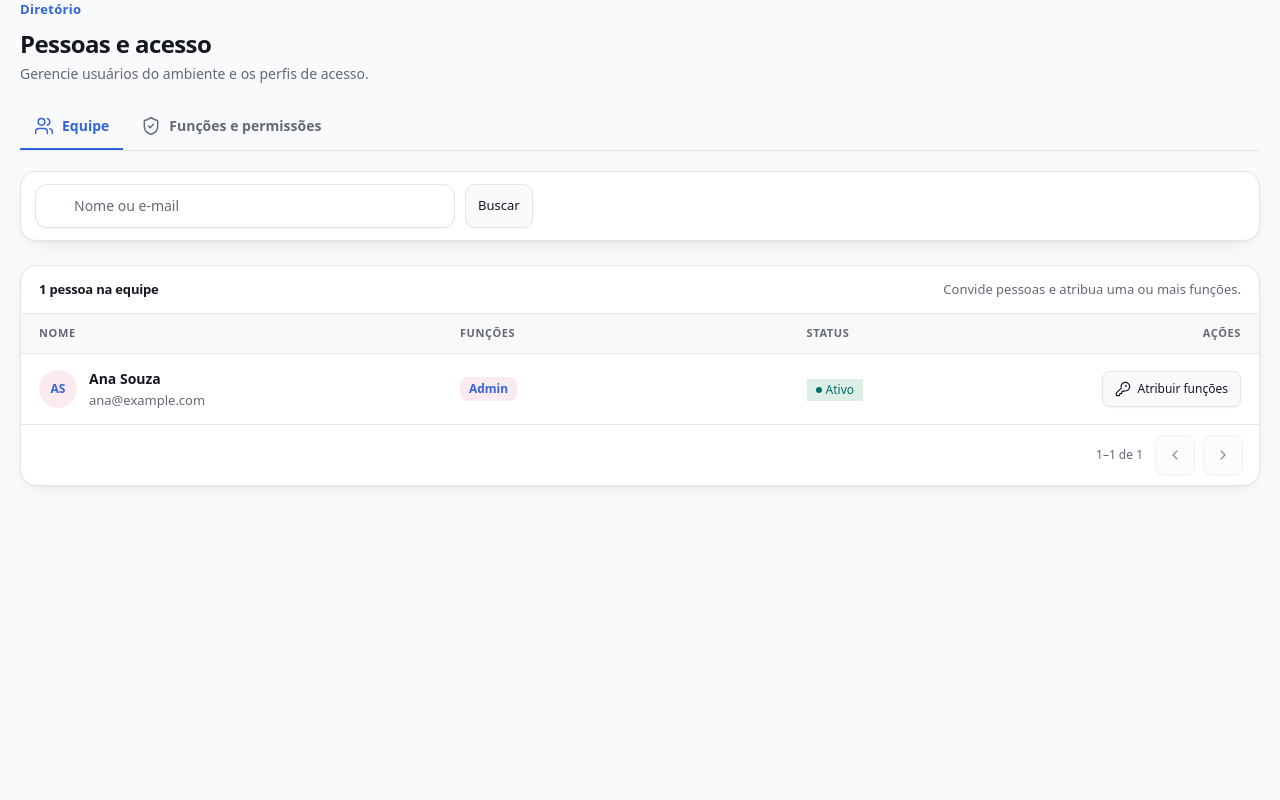
Scenario: PeopleAccessPage › opens the existing assignment dialog from the card action via pointer
The image size is (1280, 800).
Expected: the number of column headings is 4, [21,314,442,353]; [442,314,788,353]; [788,314,974,353]; [974,314,1259,353]
Expected: the column heading "Nome" is shown, [21,314,442,353]
Click the button "Atribuir funções" at (1172,389), box [1102,371,1241,407]
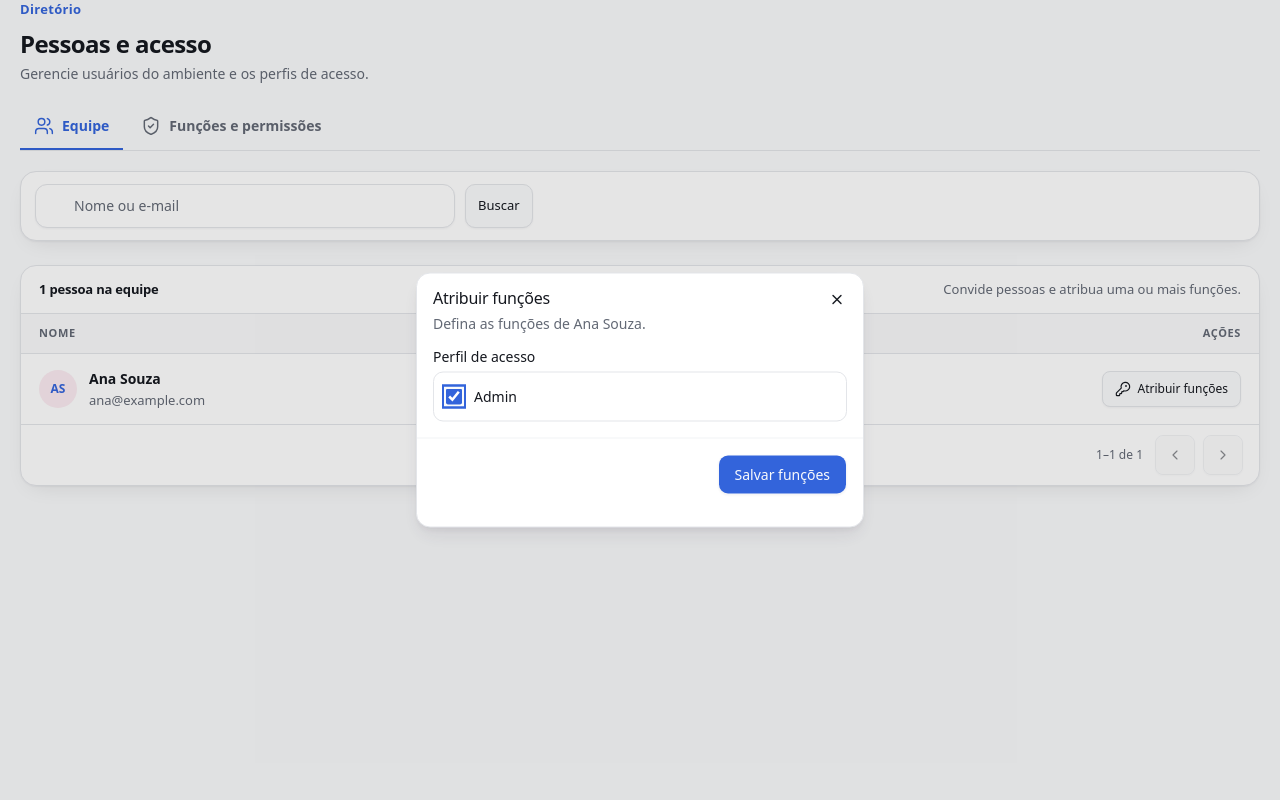
Expected: the checkbox labelled "Admin" is checked, [446,388,462,404]
